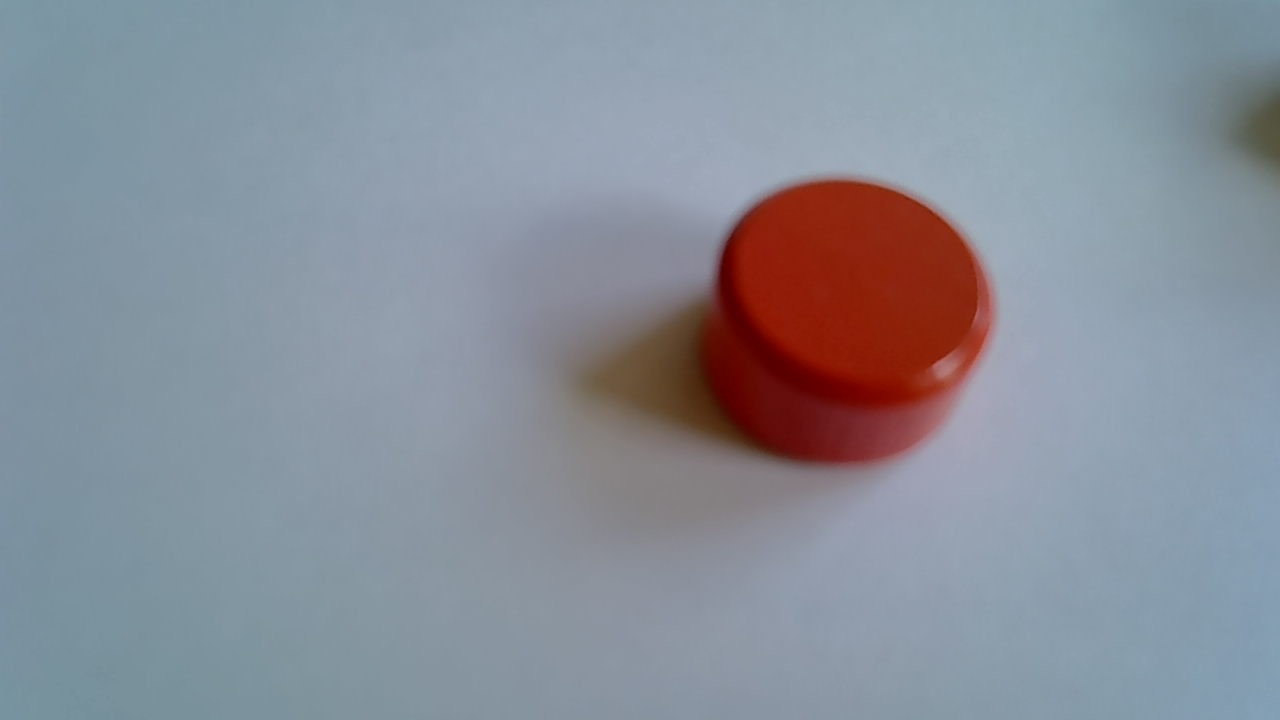WerkStueck: (692, 176, 999, 469)
